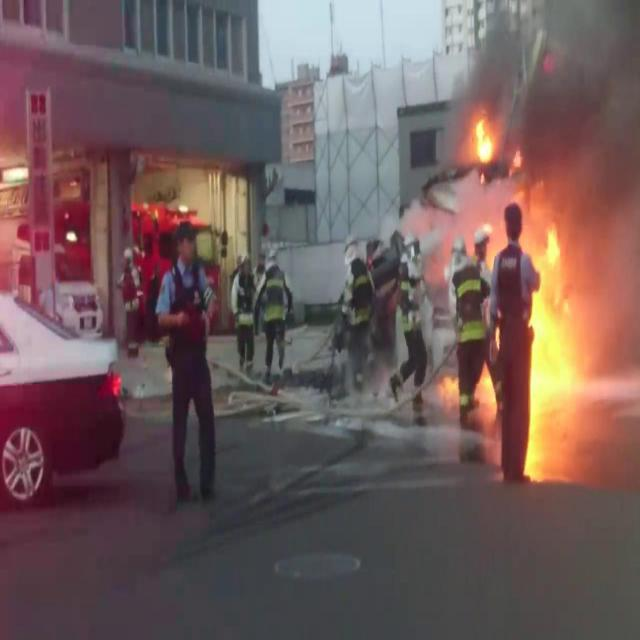Fire: (528, 218, 592, 484), (474, 112, 499, 164), (478, 373, 498, 407), (440, 366, 460, 390)
